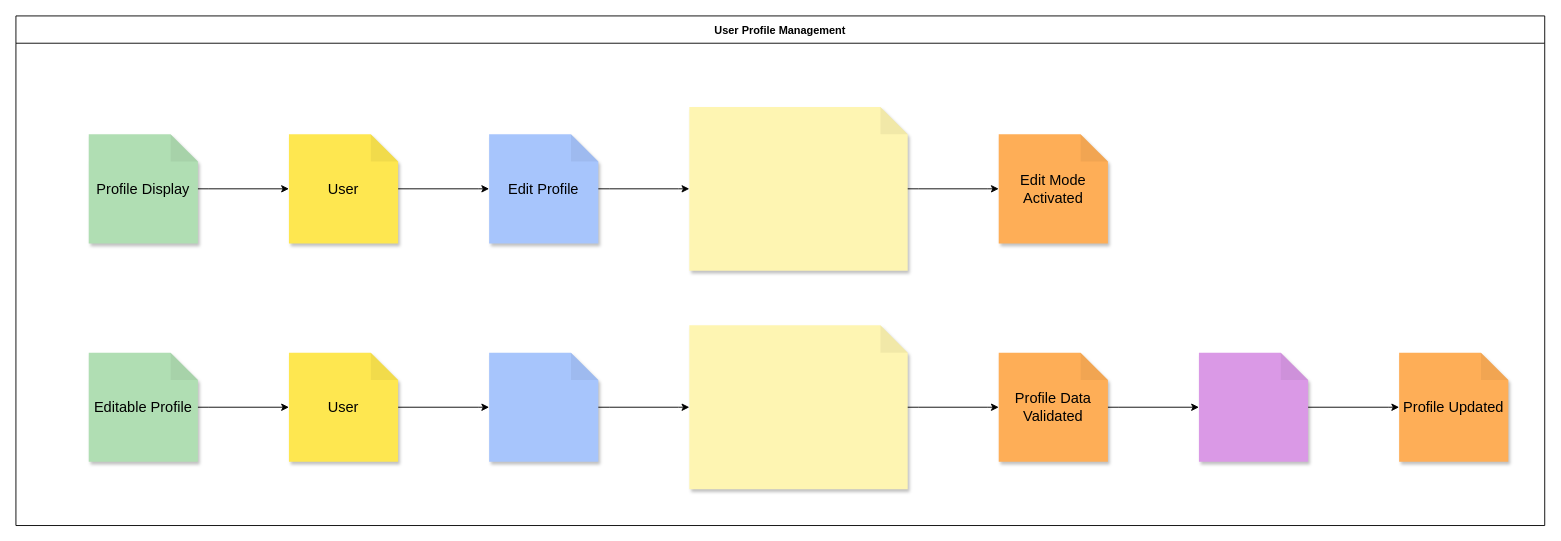
The diagram is 1561 pixels wide and 541 high, and some of its shapes have lost their labels. Each missing label, with the centre of its shape:
"Persist Profile Changes" goes at (x=1254, y=408).
"Profile Edit Policy" goes at (x=799, y=190).
"Save Profile Changes" goes at (x=544, y=408).
"Validate Profile Data" goes at (x=799, y=408).
